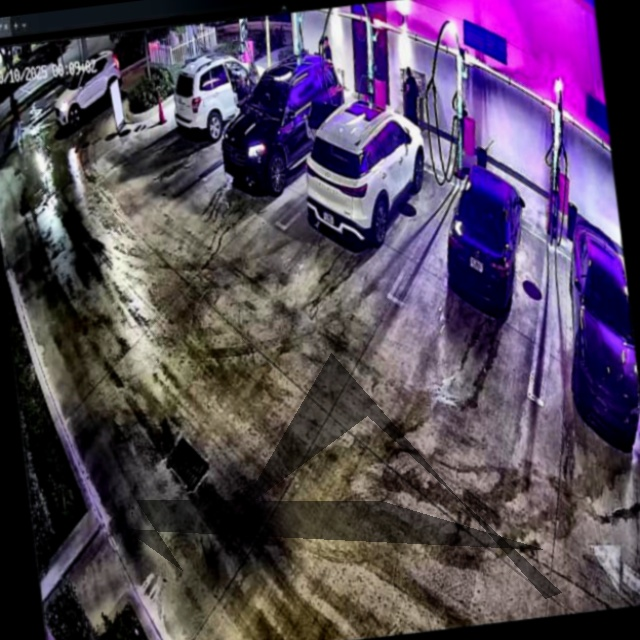Car: (291, 92, 435, 251), (213, 50, 353, 198), (433, 154, 533, 316)
